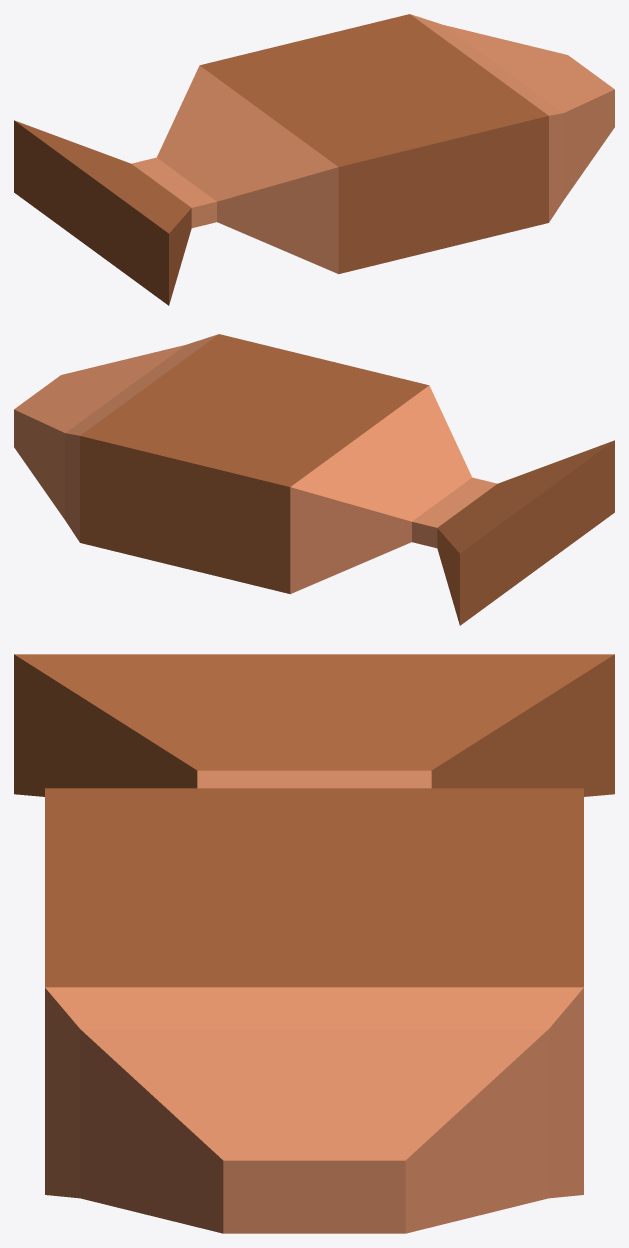
File: Garbage-Organic-Fish.glb
3 renders of one model, top to bottom at view 1: azimuth 30°, elevation 25°; view 2: azimuth 150°, elevation 25°; view 3: azimuth 270°, elevation 25°, orthographic. The views are drawn at different scales.
Parts seen in each view (by area): view 1: Garbage.O.Fish; view 2: Garbage.O.Fish; view 3: Garbage.O.Fish.
Boxes of the visible parts, x1,y1,x2,y2 form: Garbage.O.Fish: [14, 14, 614, 305]; Garbage.O.Fish: [14, 334, 614, 625]; Garbage.O.Fish: [14, 654, 614, 1233].
Size of the model in its own units: 0.4655 by 0.0953 by 0.25.
